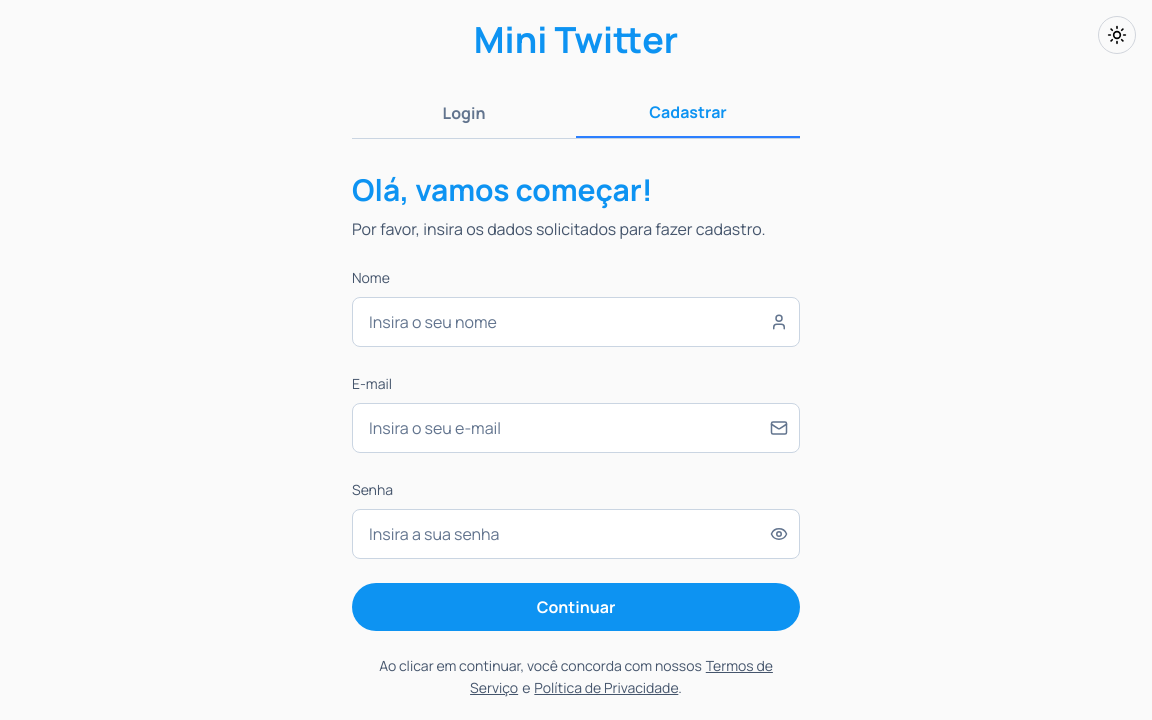
Register Page › should submit form successfully
Type "Vitor" into the field with placeholder "Insira o seu nome" at (576, 322), box [352,297,800,347]
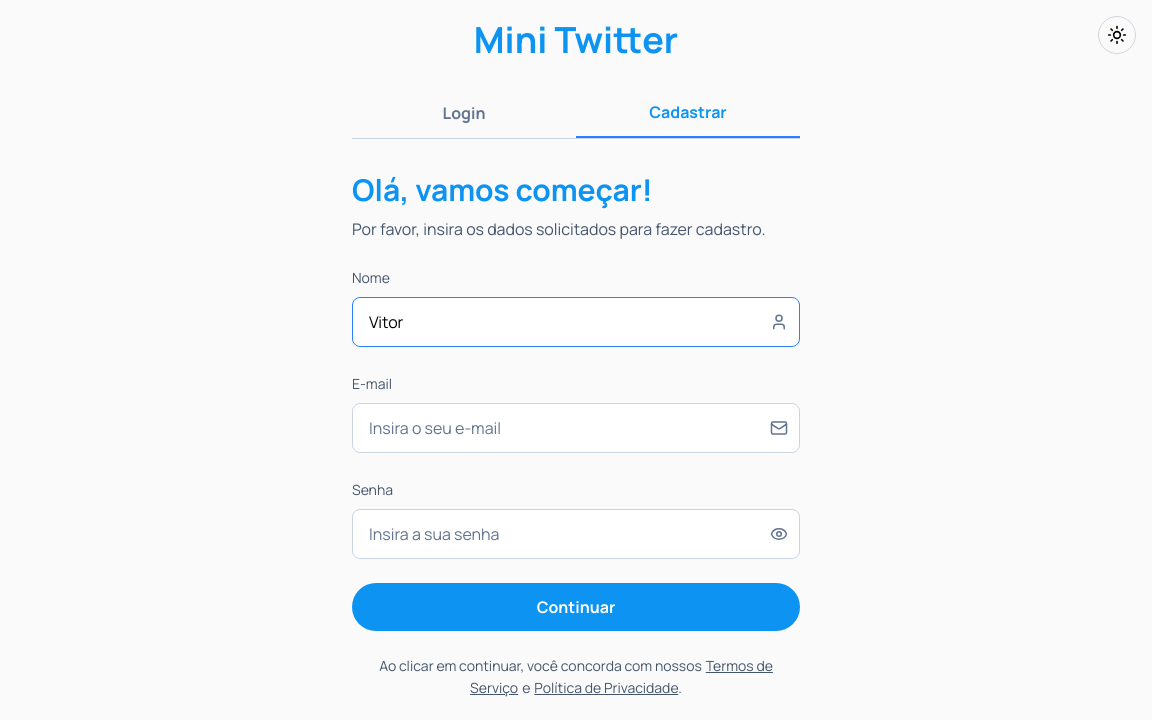
Type "vitor@email.com" into the field with placeholder "Insira o seu e-mail" at (576, 428), box [352,403,800,453]
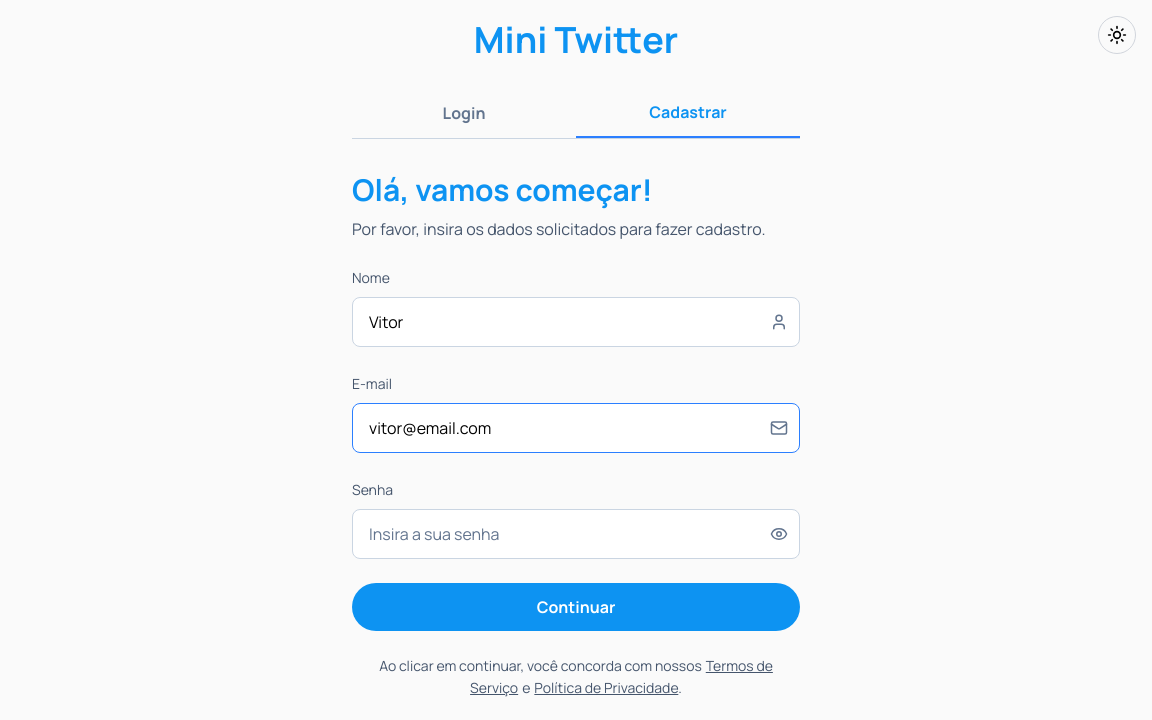
Type "123456" into the password field with placeholder "Insira a sua senha" at (576, 534), box [352,509,800,559]
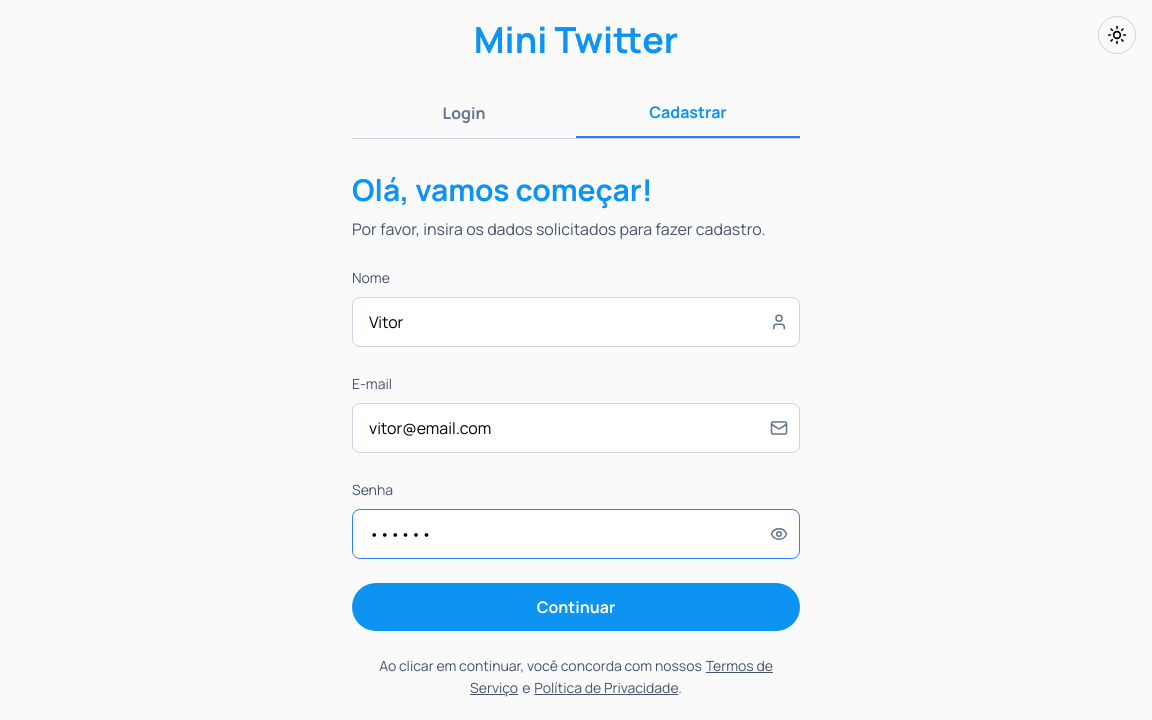
Click the submit button at (576, 607), box [352,583,800,631]
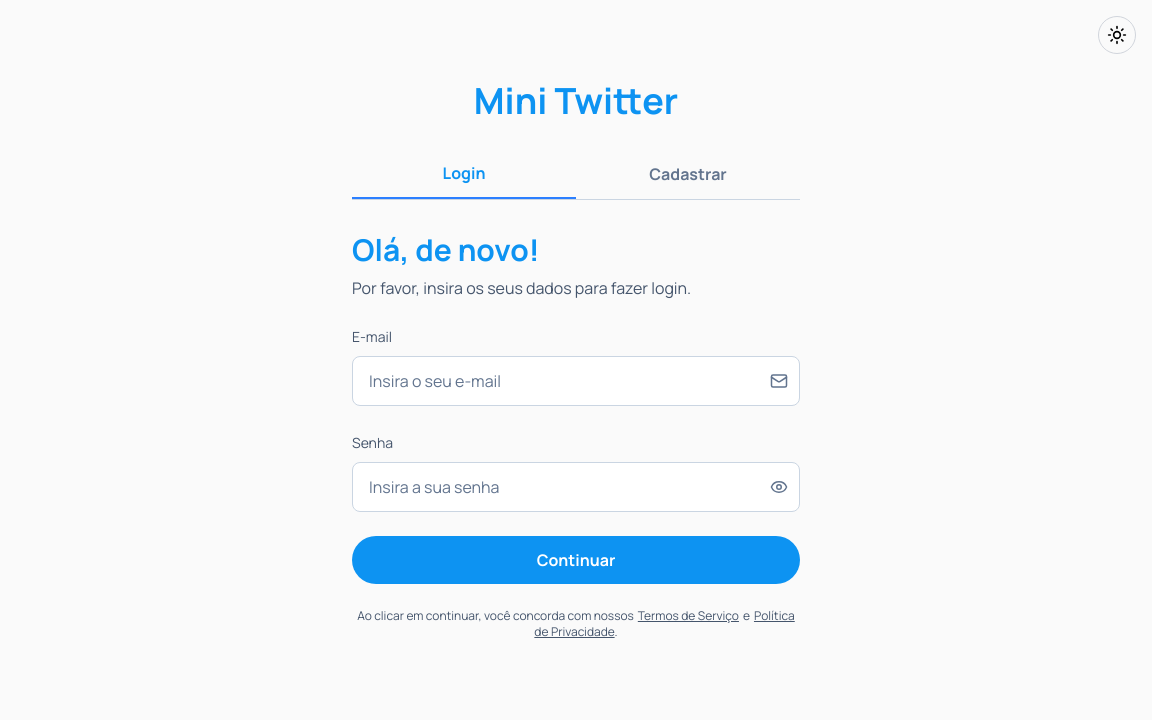
Now the heading "Olá, de novo!" is shown, box [352,228,540,270]
